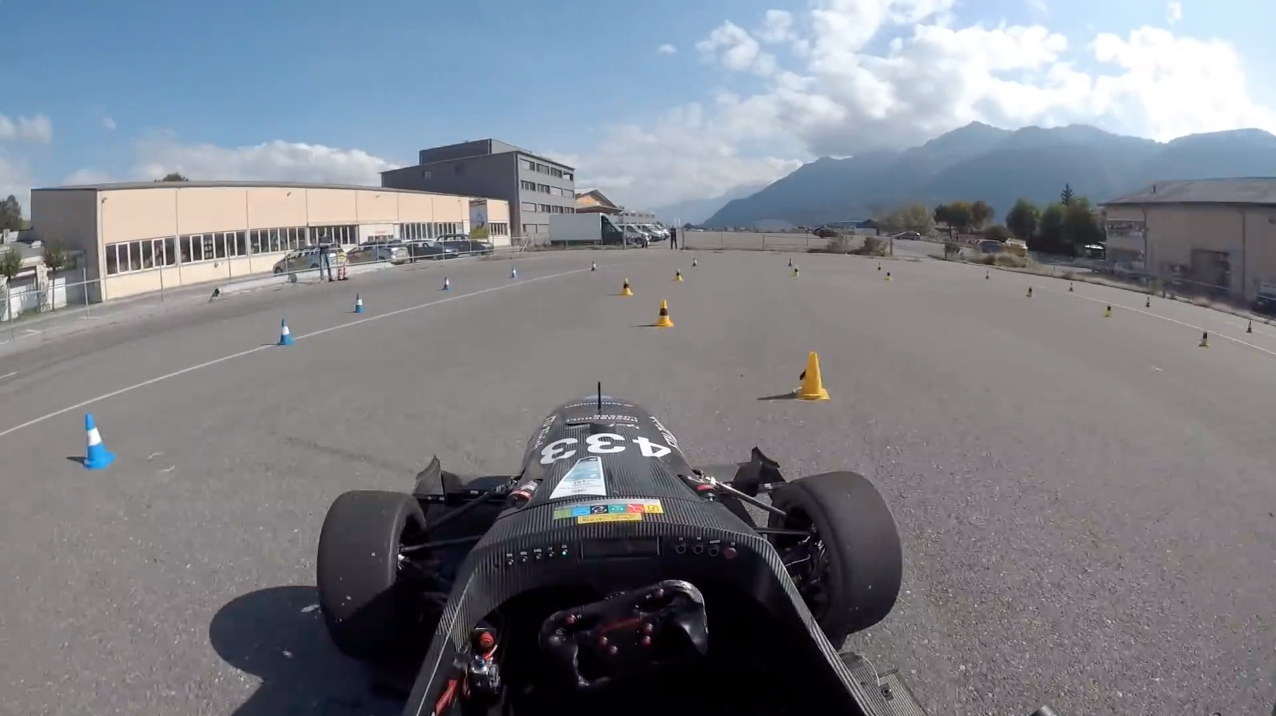lcone: (77, 411, 122, 474), (274, 314, 301, 347), (351, 290, 369, 319)
rcone: (792, 346, 836, 404), (652, 296, 681, 333), (619, 274, 636, 303)
